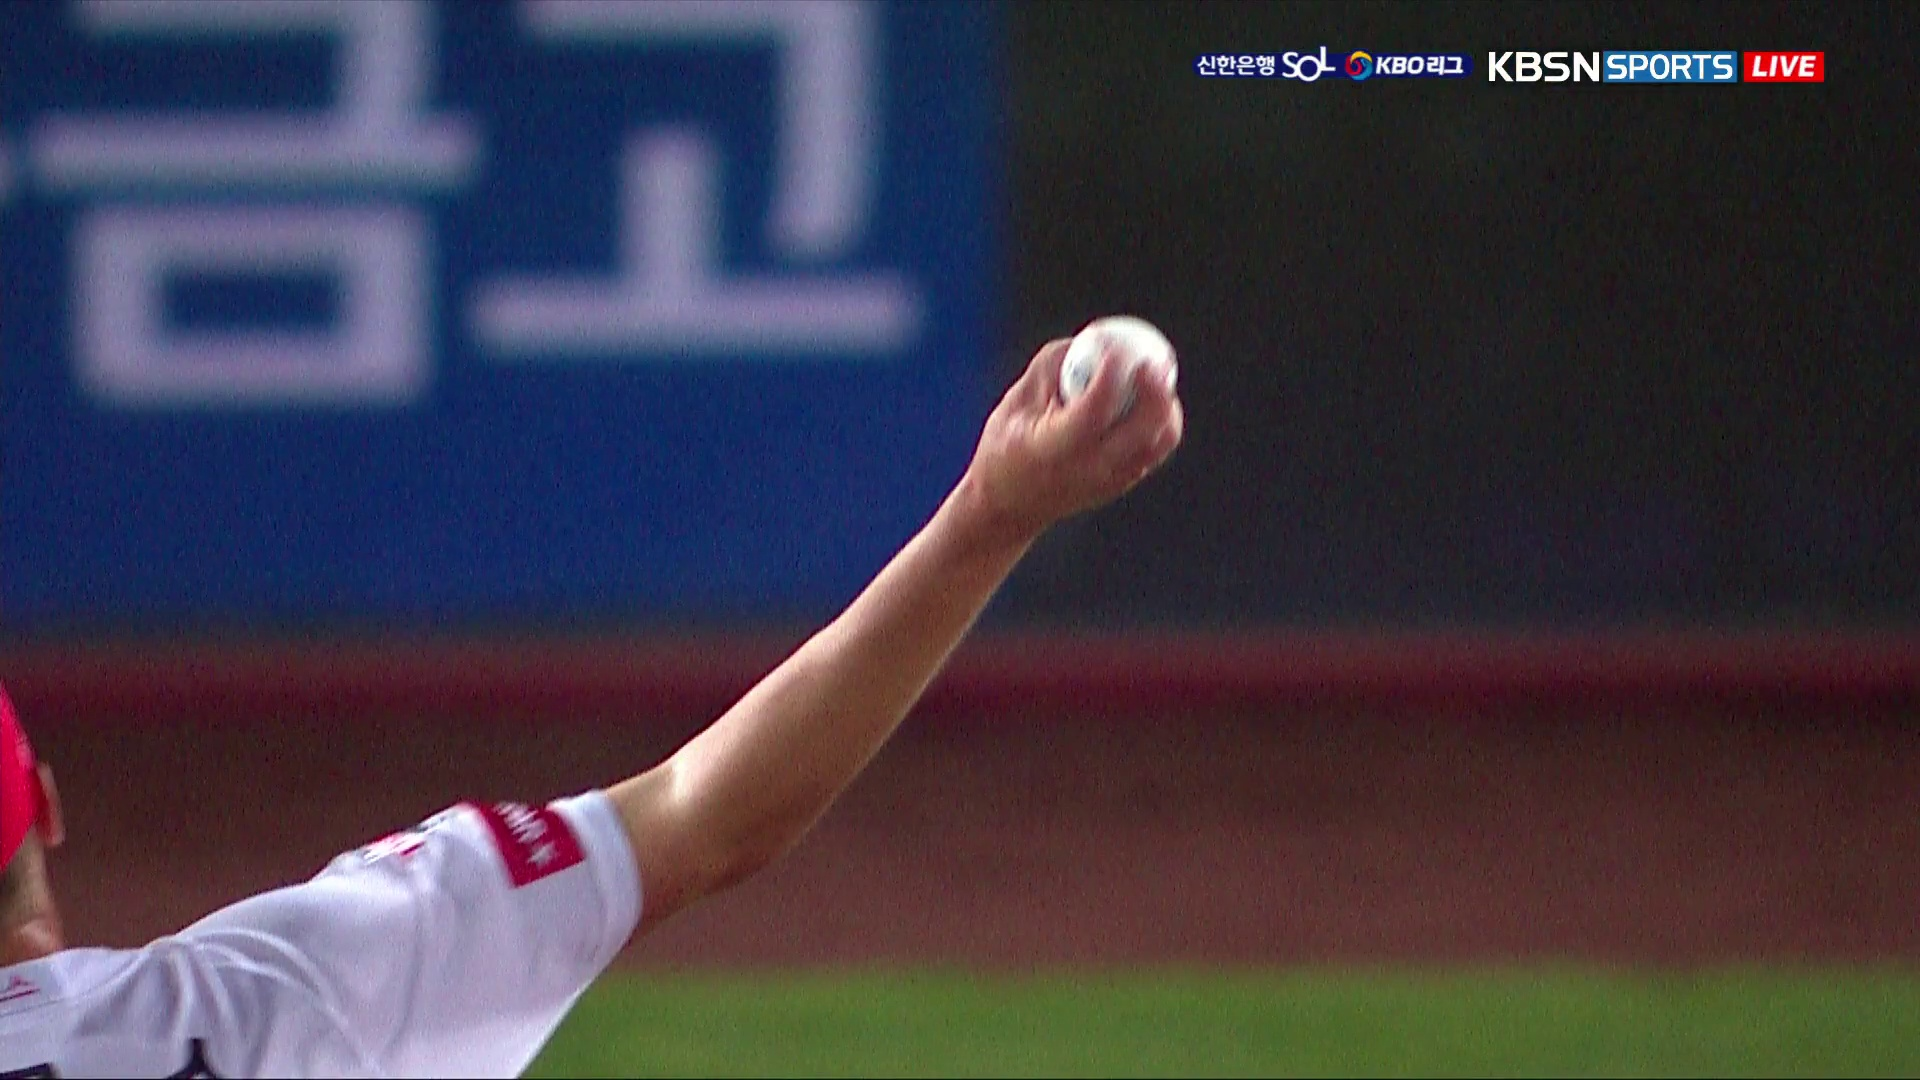zoomin_hand: (646, 298, 1191, 928)
